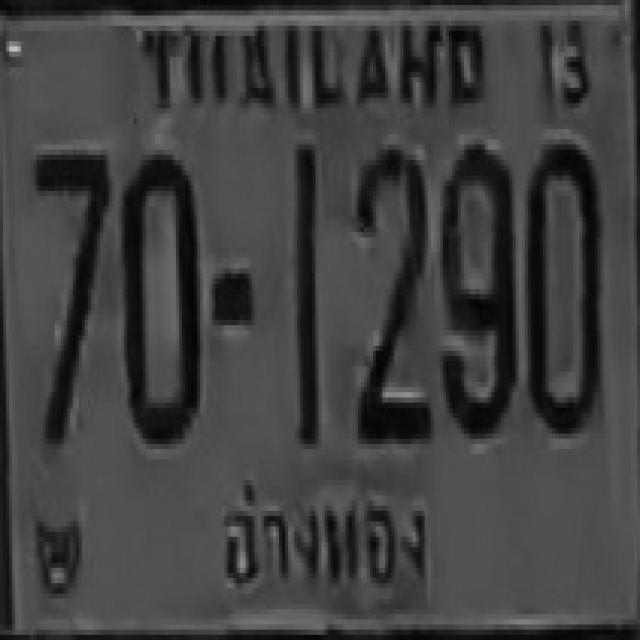0: (121, 150, 197, 438), (524, 140, 598, 428)
1: (293, 144, 317, 444)
2: (356, 139, 429, 439)
7: (32, 147, 108, 441)
9: (440, 140, 512, 433)
AngThong: (208, 463, 438, 596)
